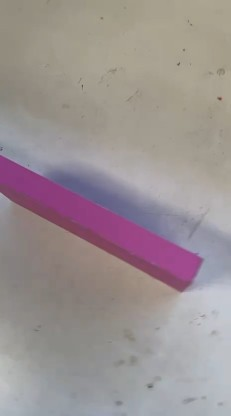pink: (0, 180, 226, 277)
